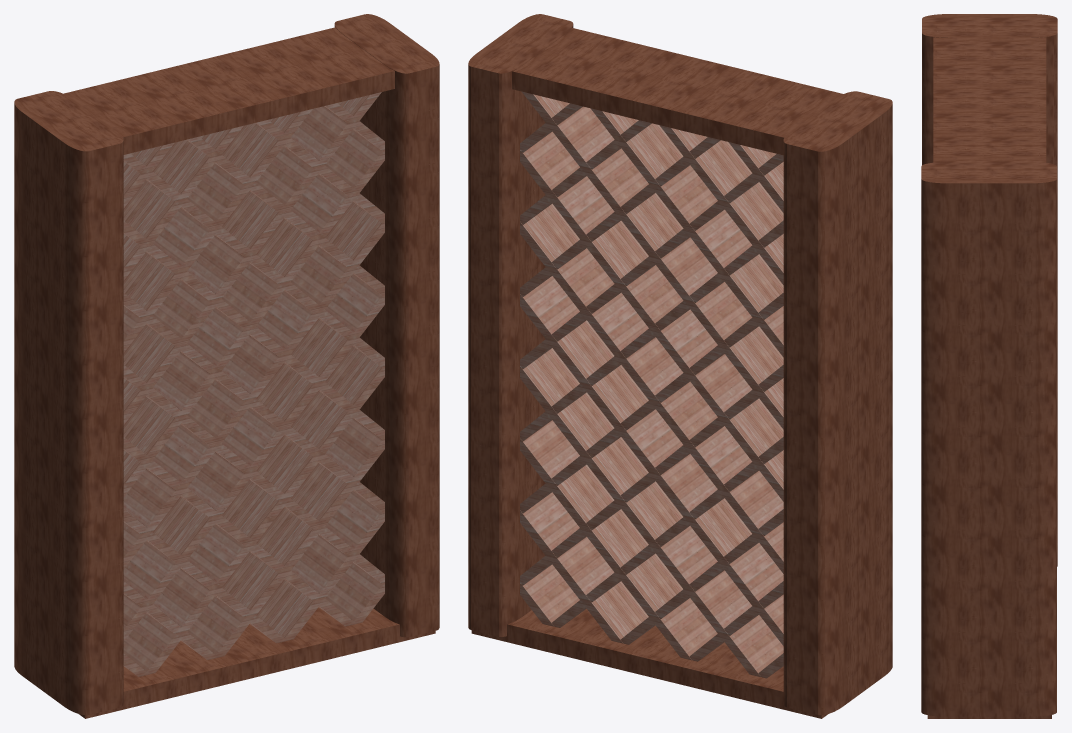
Rendered from Wine_caseWithTexture.fbx.
3 views of the same model, side by side, from view 1: azimuth 30°, elevation 25°; view 2: azimuth 150°, elevation 25°; view 3: azimuth 270°, elevation 25° (orthographic). The views are drawn at different scales.
Parts seen in each view (by area): view 1: mergedBlocks; view 2: mergedBlocks; view 3: mergedBlocks.
Part boxes in pixels (x1,y1,x2,y2): mergedBlocks: (14, 14, 439, 718); mergedBlocks: (468, 14, 892, 718); mergedBlocks: (921, 14, 1057, 718).
Size of the model in its own units: 71 by 105 by 24.1.
